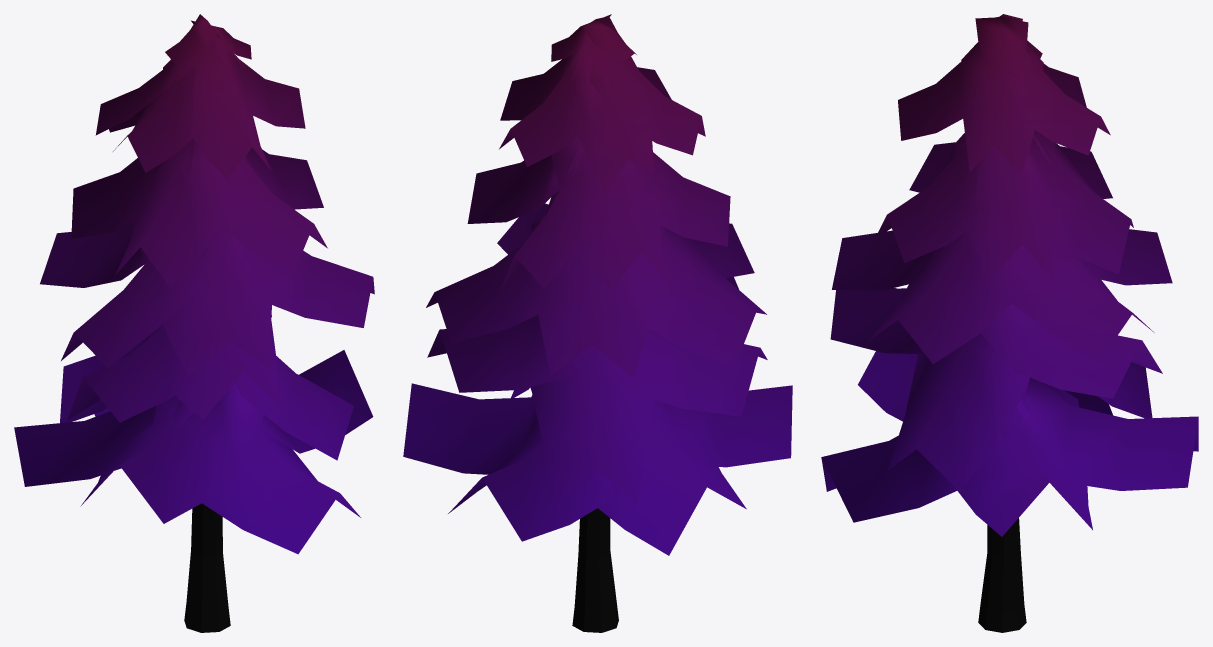
The model's file is SM_Tree_Pine_Small_01_LOD_01.fbx.
The picture shows the model from 3 angles, left to right: view 1: azimuth 30°, elevation 25°; view 2: azimuth 150°, elevation 25°; view 3: azimuth 270°, elevation 25°; orthographic projection.
Parts seen in each view (by area): view 1: SM_Tree_Pine_Small_01_LOD_01; view 2: SM_Tree_Pine_Small_01_LOD_01; view 3: SM_Tree_Pine_Small_01_LOD_01.
Part boxes in pixels (box(x1,y1,x2,y2)): SM_Tree_Pine_Small_01_LOD_01: box(14, 14, 374, 632); SM_Tree_Pine_Small_01_LOD_01: box(403, 14, 792, 632); SM_Tree_Pine_Small_01_LOD_01: box(821, 14, 1198, 632).
Size of the model in its own units: 201 by 348 by 196.
